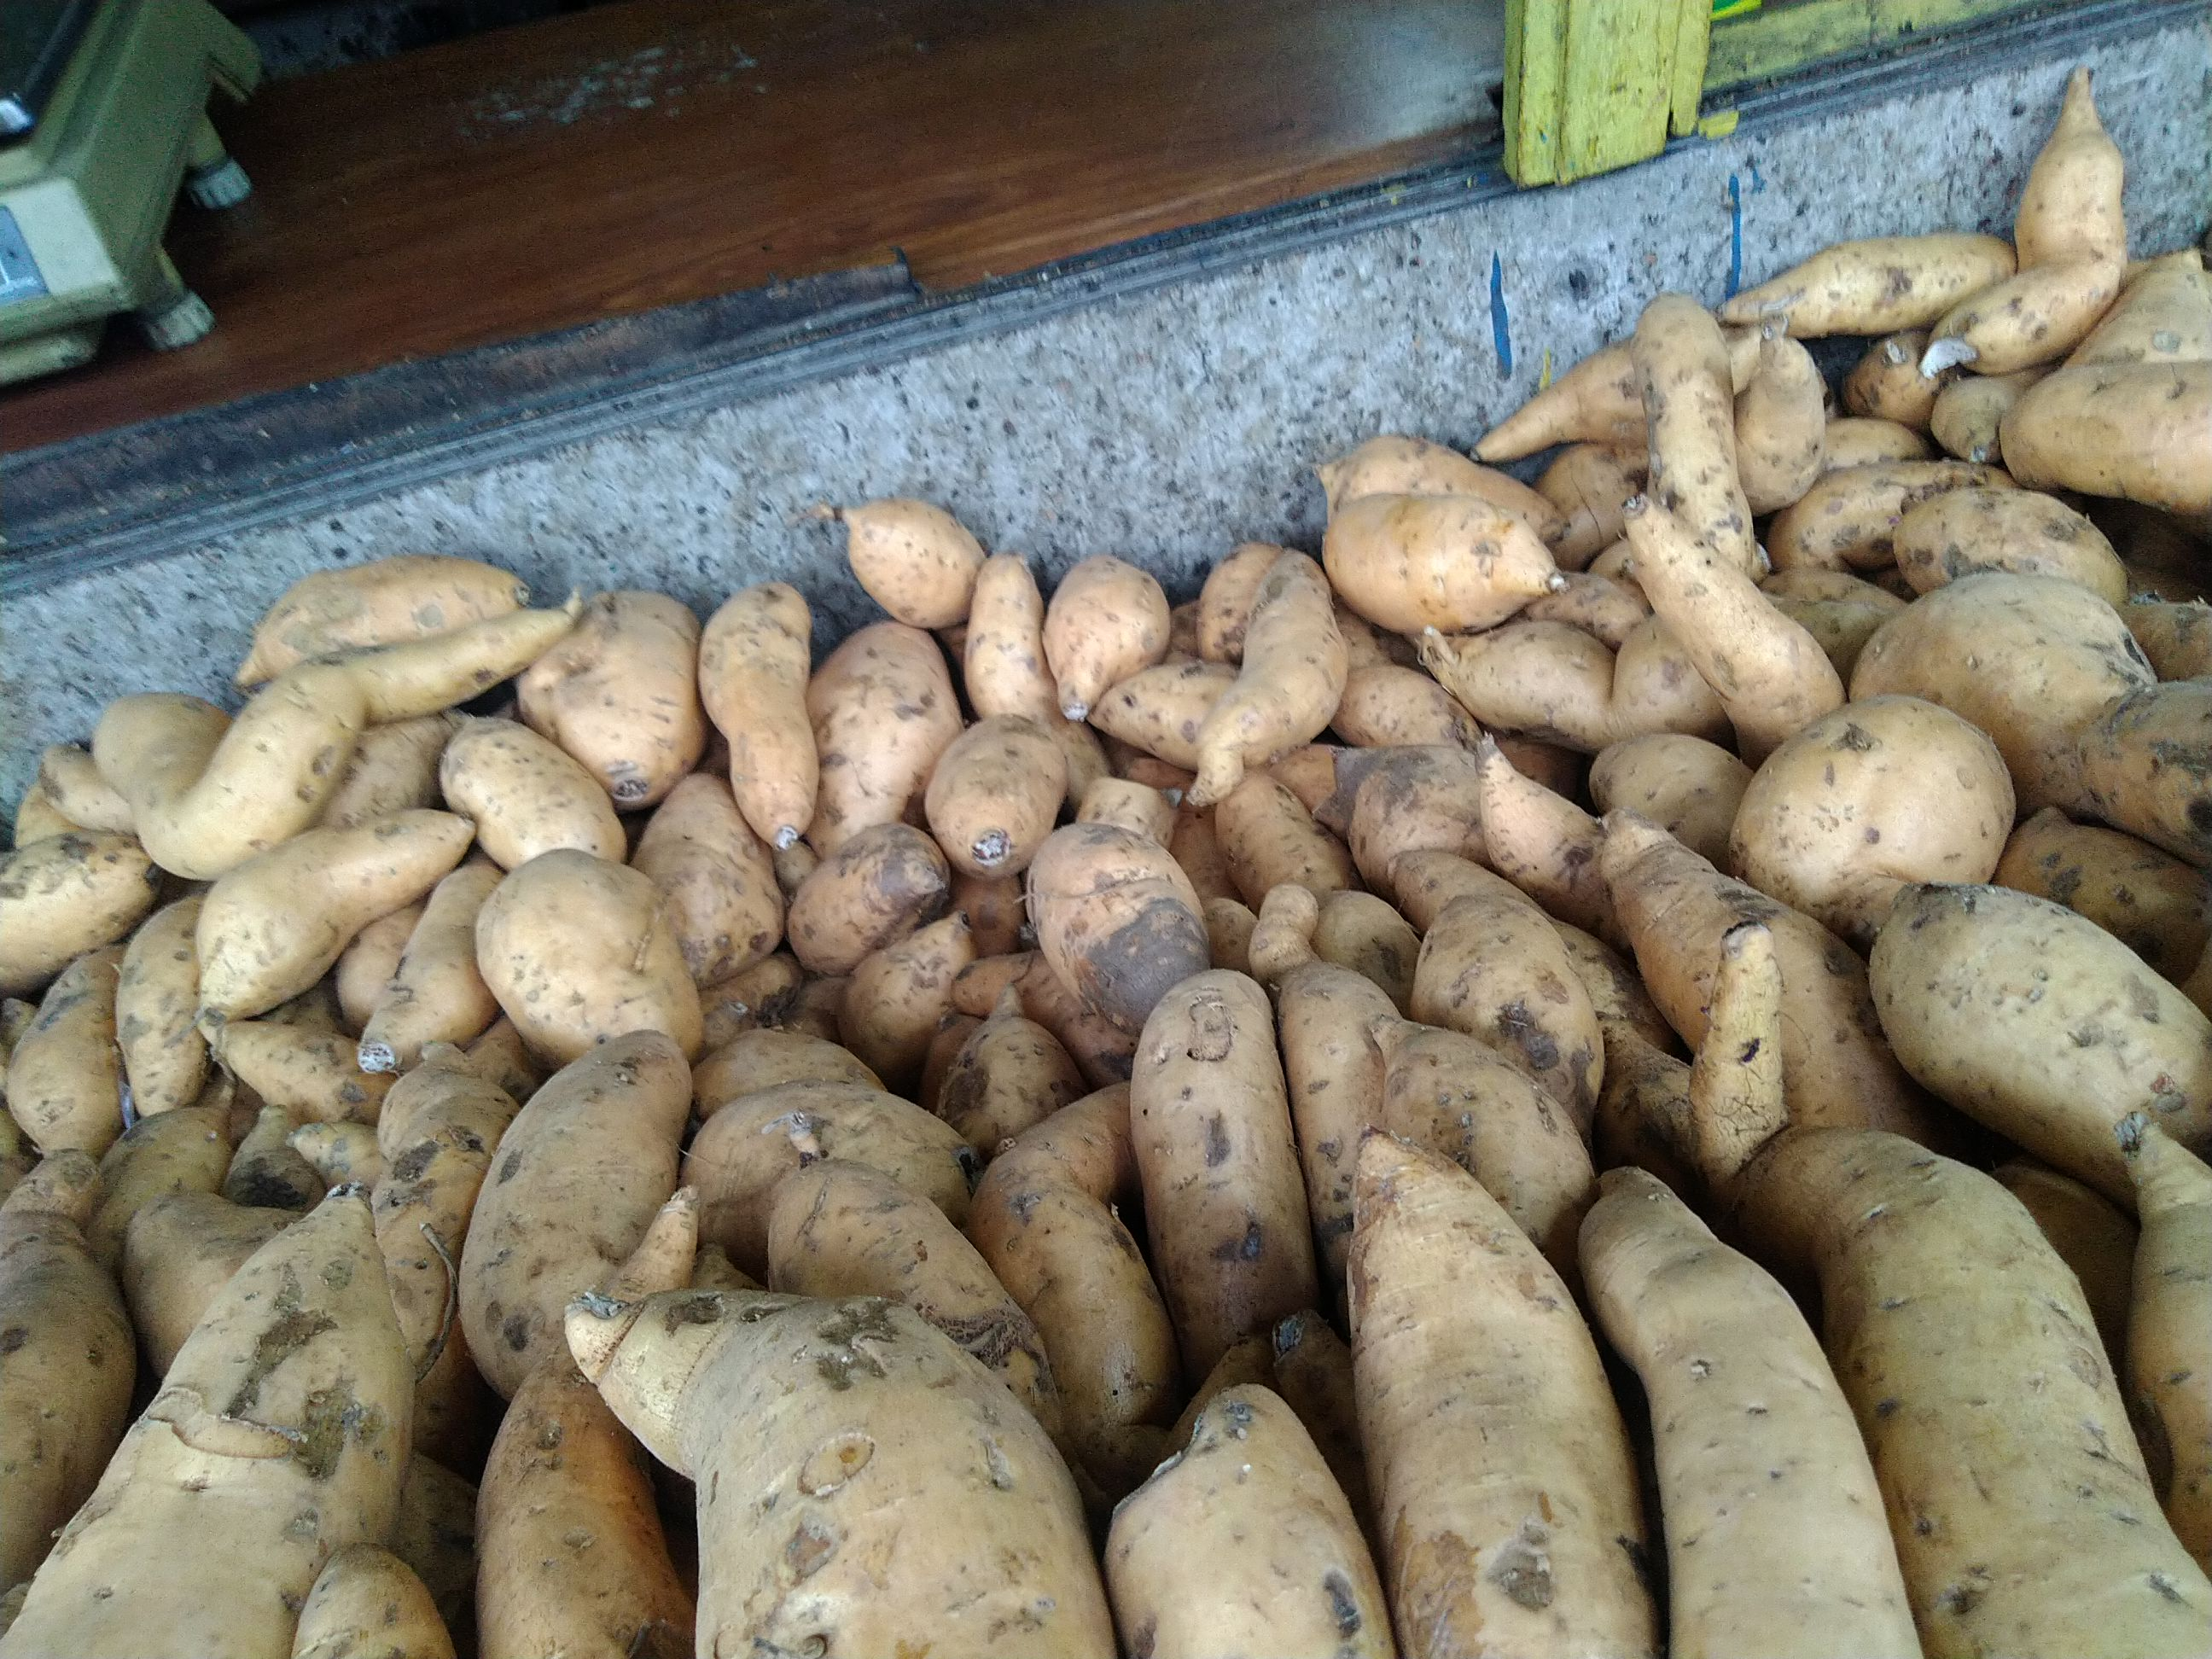ubi cilembu: (12, 538, 2212, 1659), (1303, 96, 2212, 537), (563, 1187, 1097, 1659), (5, 1166, 418, 1659), (1327, 1117, 1655, 1659), (89, 582, 632, 884), (460, 1026, 742, 1408), (1904, 64, 2139, 392), (1737, 681, 2060, 918), (1378, 849, 1627, 1140), (1616, 484, 1867, 762), (188, 817, 479, 1037), (470, 831, 723, 1054), (1366, 995, 1599, 1236), (1179, 545, 1372, 829), (1007, 807, 1224, 1054), (214, 547, 538, 709), (1310, 491, 1599, 636), (1714, 225, 2034, 345), (691, 563, 822, 842), (927, 706, 1083, 868), (1042, 538, 1172, 721), (820, 476, 975, 620)
